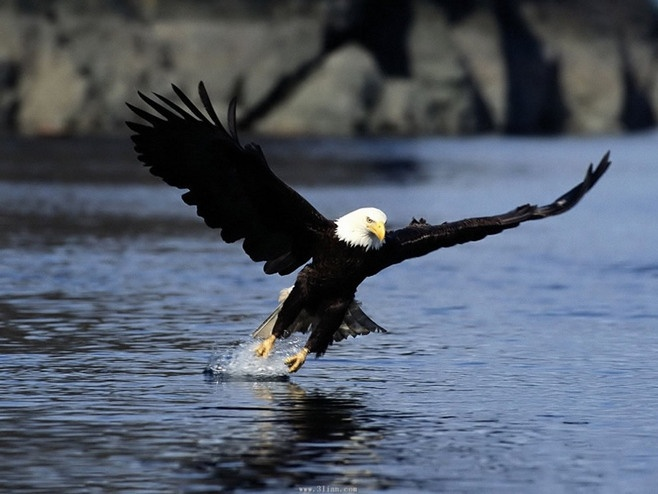bird: (109, 75, 614, 373)
